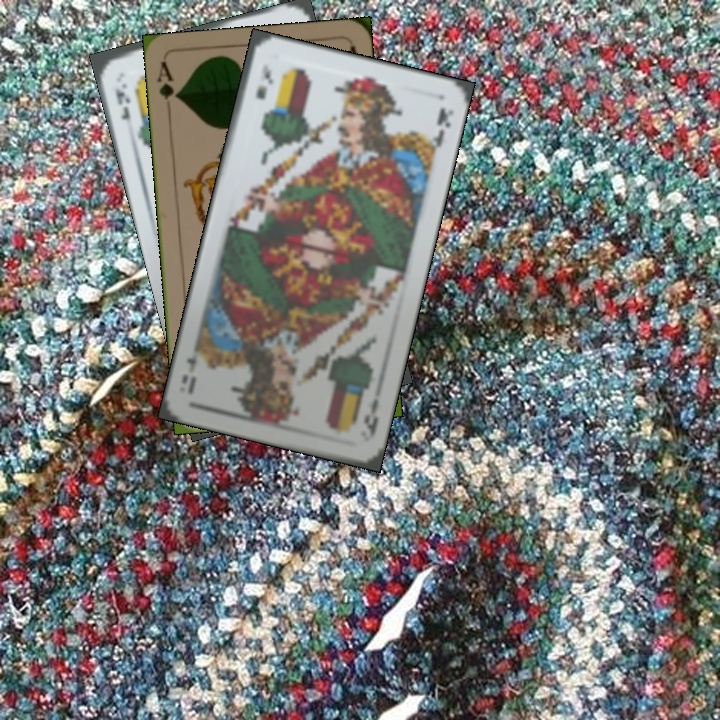EK: (251, 60, 275, 102), (111, 79, 133, 123), (360, 394, 382, 438)
GA: (153, 58, 182, 117)
